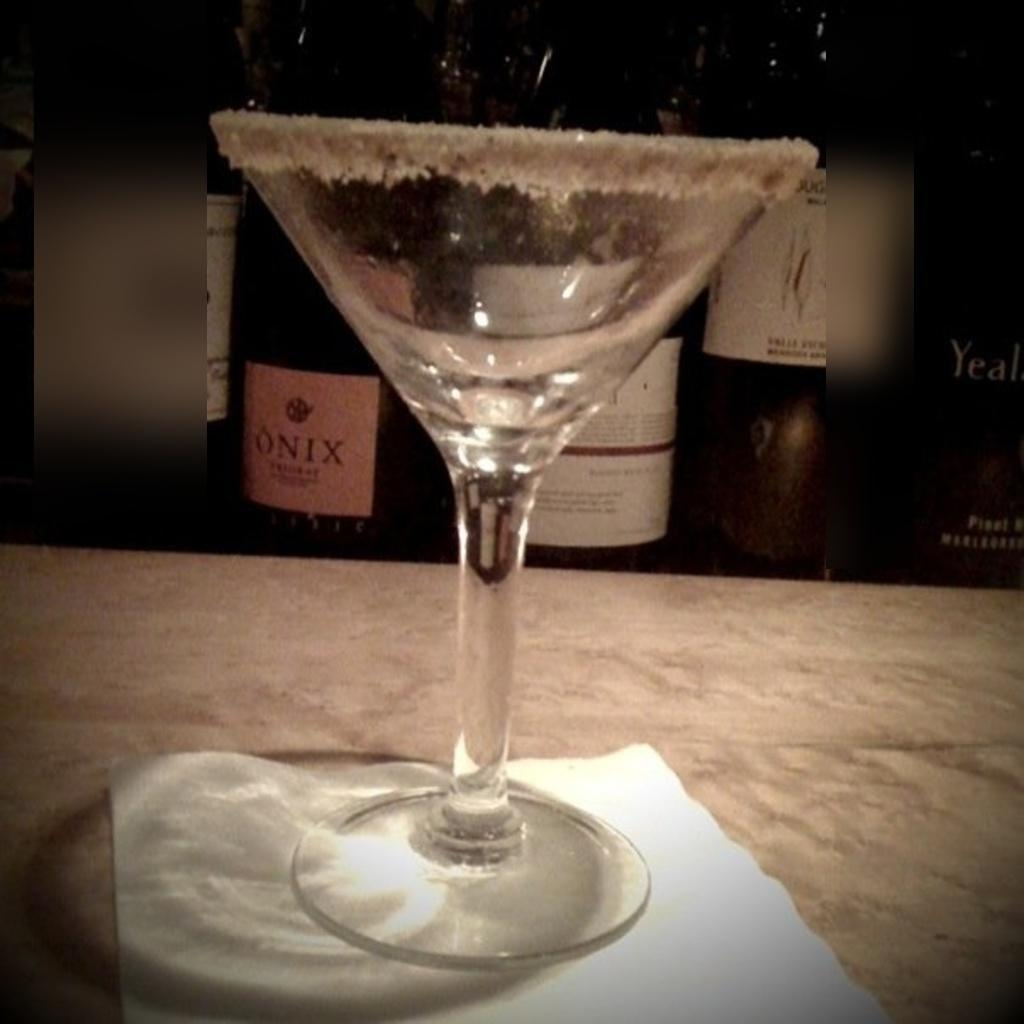glass-wine: (204, 115, 826, 956)
